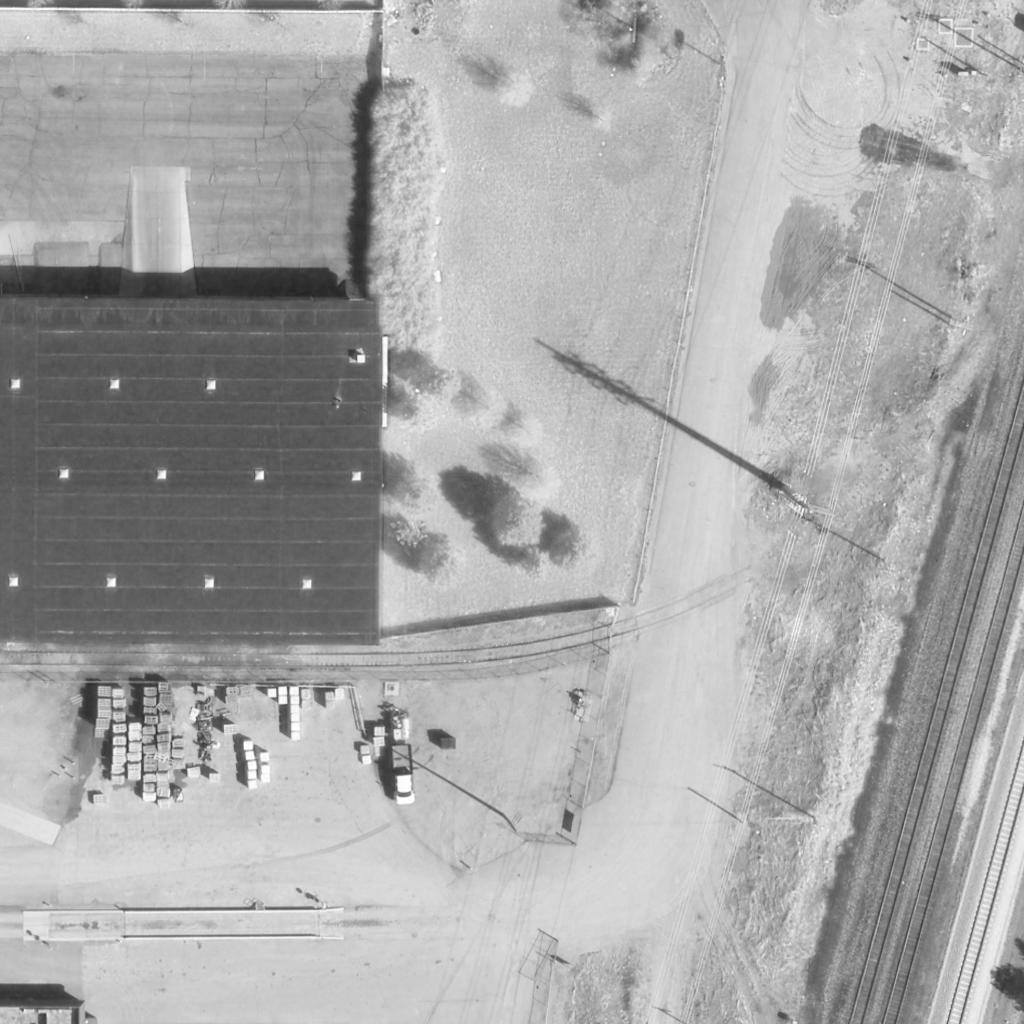vehicle: (380, 741, 428, 807)
